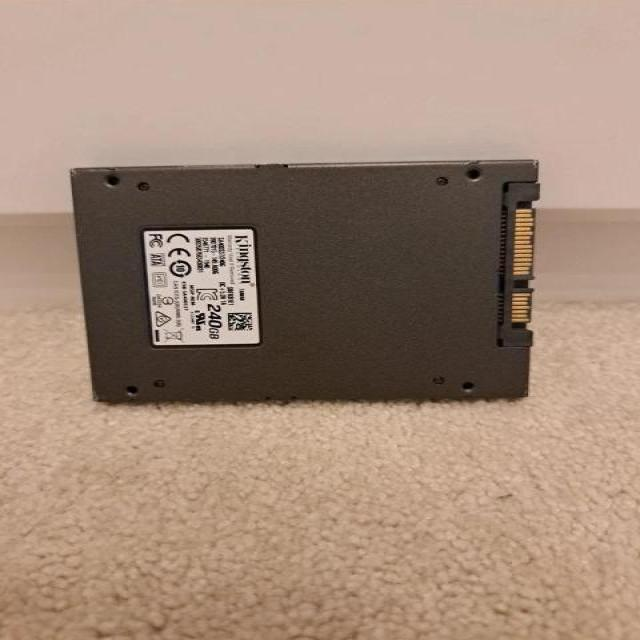DISK: (68, 157, 544, 404)
